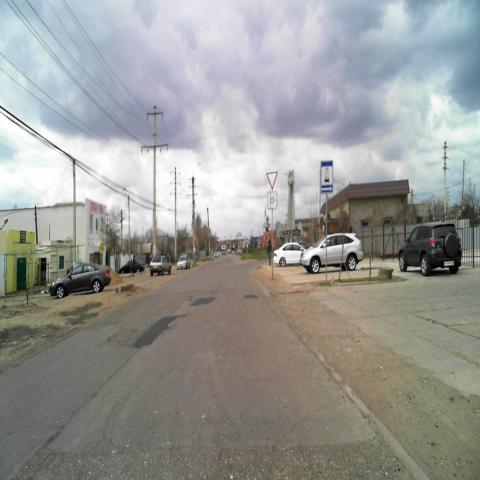7_5: (320, 161, 332, 192)
8_13_1: (267, 191, 277, 209)
